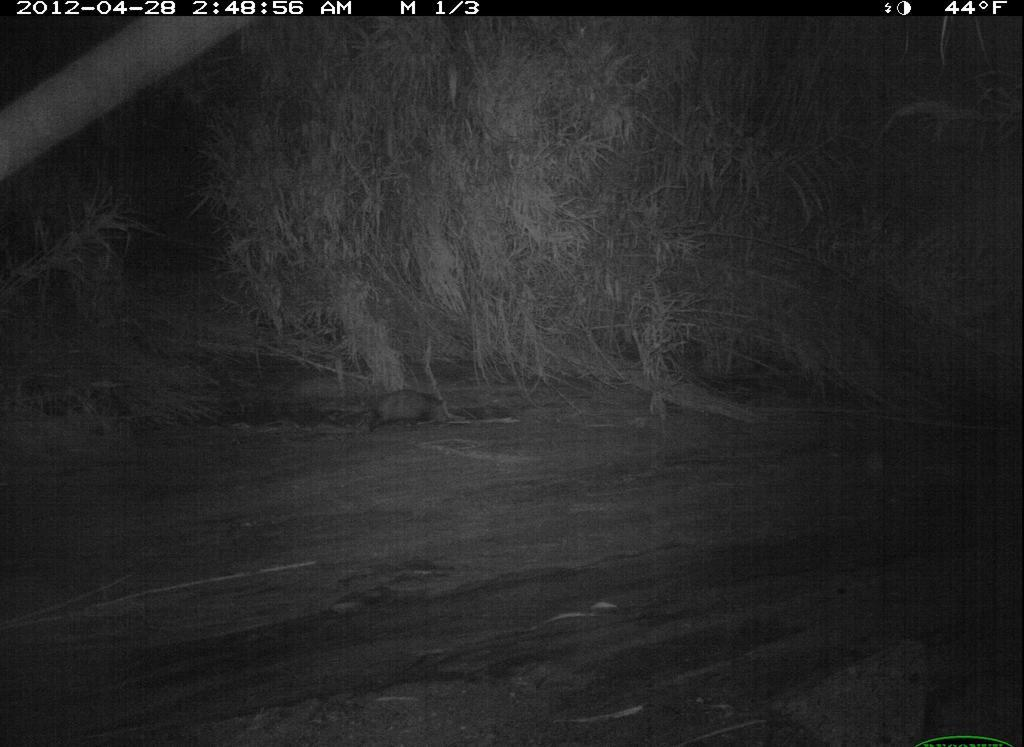opossum: (345, 381, 459, 443)
